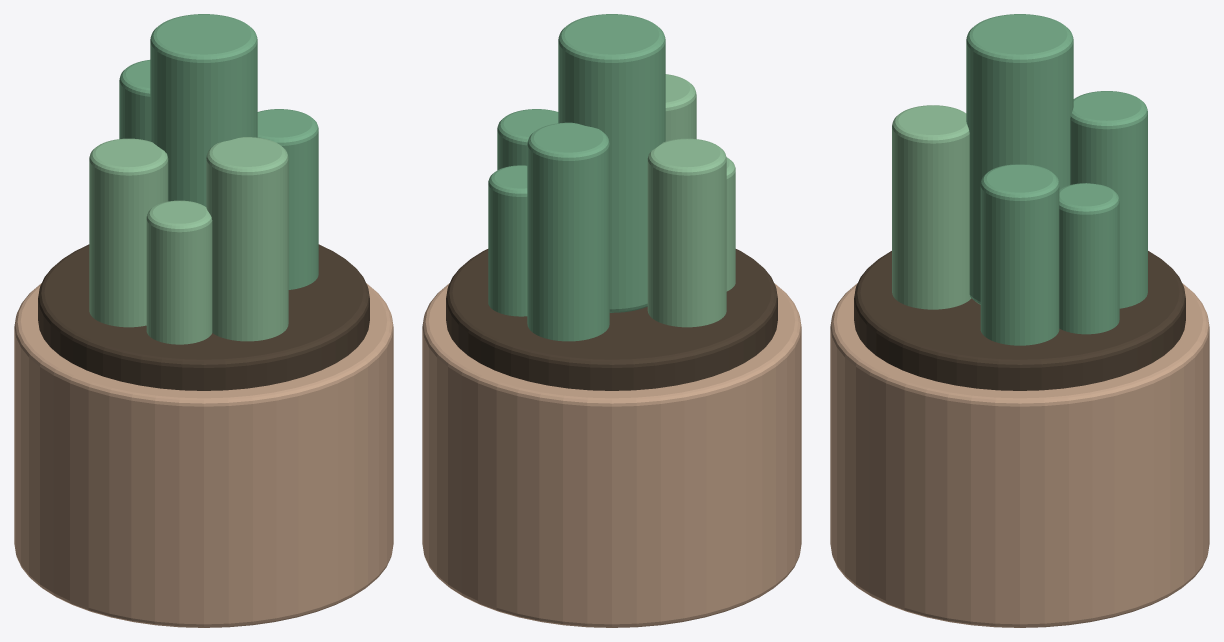
Rendered from minimal-succulent-planter-01.glb.
The picture shows the model from 3 angles, left to right: view 1: azimuth 30°, elevation 25°; view 2: azimuth 150°, elevation 25°; view 3: azimuth 270°, elevation 25°; orthographic projection.
Visible parts, largest first — view 1: minimal-succulent-planter-01; view 2: minimal-succulent-planter-01; view 3: minimal-succulent-planter-01.
Part boxes in pixels (x1,y1,x2,y2): minimal-succulent-planter-01: (14,14,393,627); minimal-succulent-planter-01: (422,14,801,627); minimal-succulent-planter-01: (830,14,1209,627).
Size of the model in its own units: 0.24 by 0.36 by 0.24.
